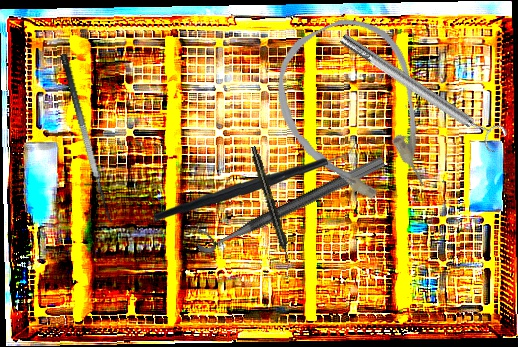Cannula: (256, 2, 457, 227)
Chopper: (153, 130, 358, 230)
Fixation Ring: (189, 139, 387, 258), (334, 24, 510, 156)
Handpiece: (248, 145, 294, 264)
Spatula Surgical: (58, 49, 124, 225)
